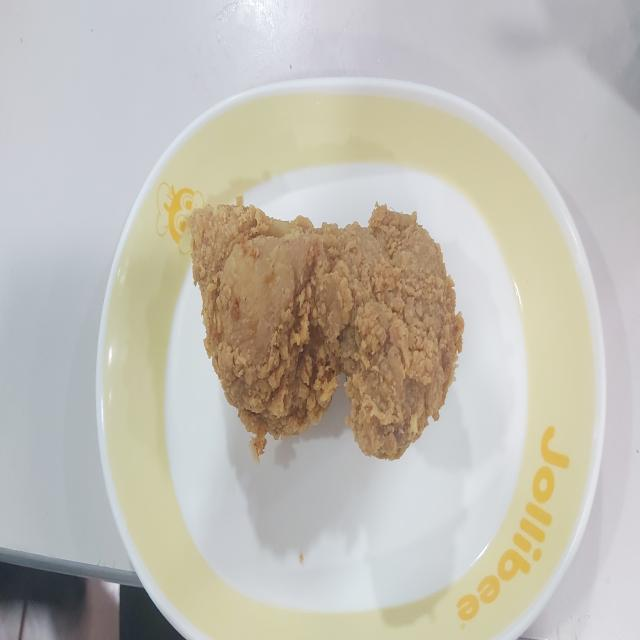Chicken -Fried Chicken-: (187, 194, 466, 463)
